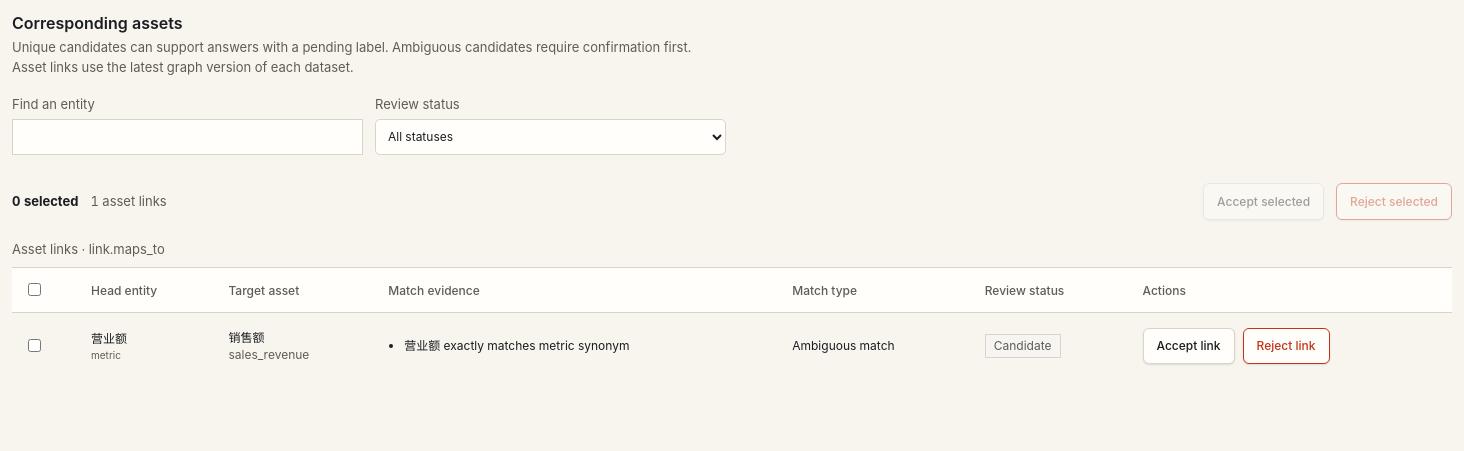
it: supports direct rejection and reports failed decisions without claiming success
The width and height of the screenshot is (1464, 451).
Click the button "Reject link" at (1286, 346), box x1=1242 y1=328 x2=1330 y2=364
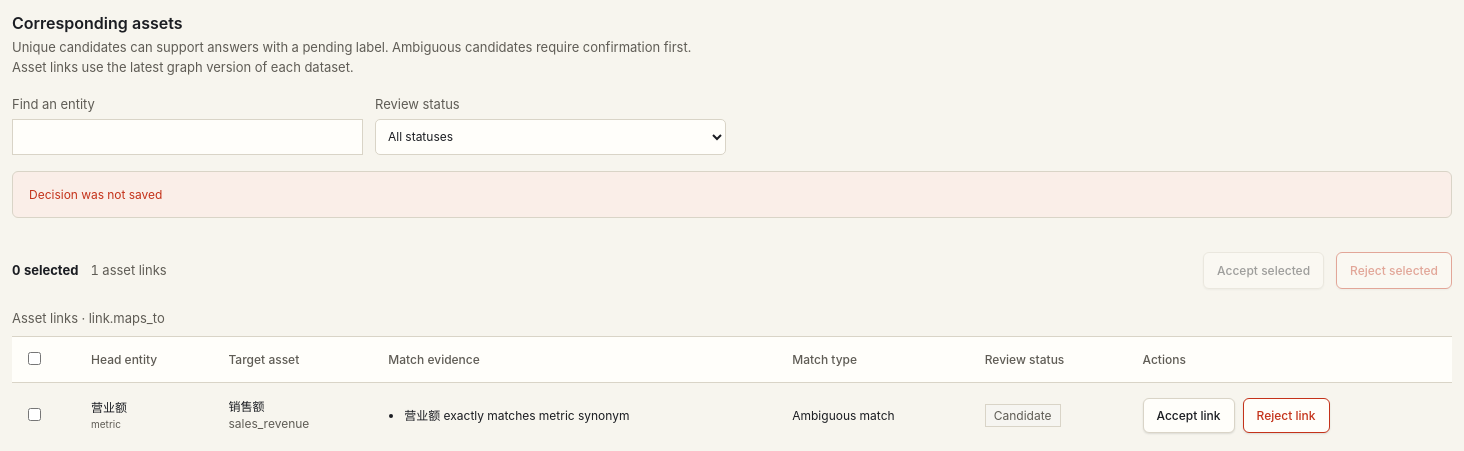
Result: the message reads "Decision was not saved" at x1=29 y1=187 x2=162 y2=202
